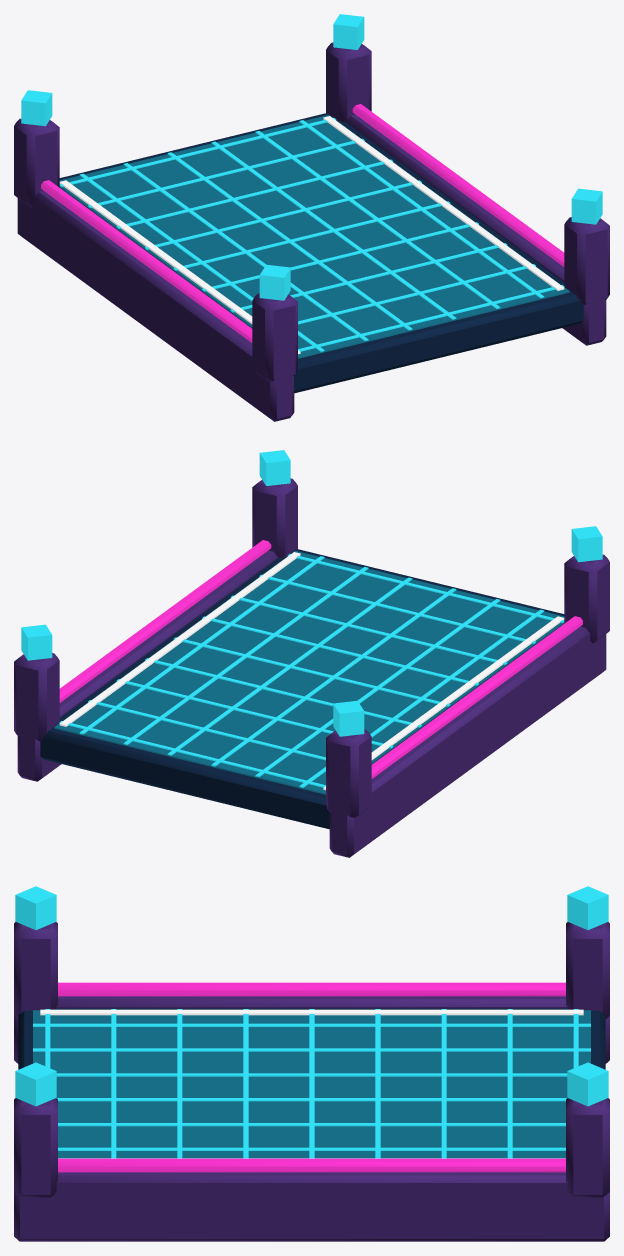
The model's file is bridge.glb.
The picture shows the model from 3 angles, top to bottom: view 1: azimuth 30°, elevation 25°; view 2: azimuth 150°, elevation 25°; view 3: azimuth 270°, elevation 25°; orthographic projection. The views are drawn at different scales.
Parts seen in each view (by area): view 1: fx_glow_grid, bridge, team_glow; view 2: fx_glow_grid, bridge, team_glow; view 3: bridge, fx_glow_grid, team_glow.
Part boxes in pixels (box(x1,y1,x2,y2)): fx_glow_grid: box(59, 115, 569, 358); bridge: box(14, 14, 609, 421); team_glow: box(59, 116, 564, 354); fx_glow_grid: box(54, 551, 564, 794); bridge: box(14, 450, 609, 857); team_glow: box(59, 552, 564, 790); bridge: box(14, 886, 609, 1241); fx_glow_grid: box(33, 1009, 590, 1158); team_glow: box(40, 1009, 583, 1158).
Bounding box in the file's own units: 3.14 × 1.25 × 4.06.
2 materials, 2 textured.
